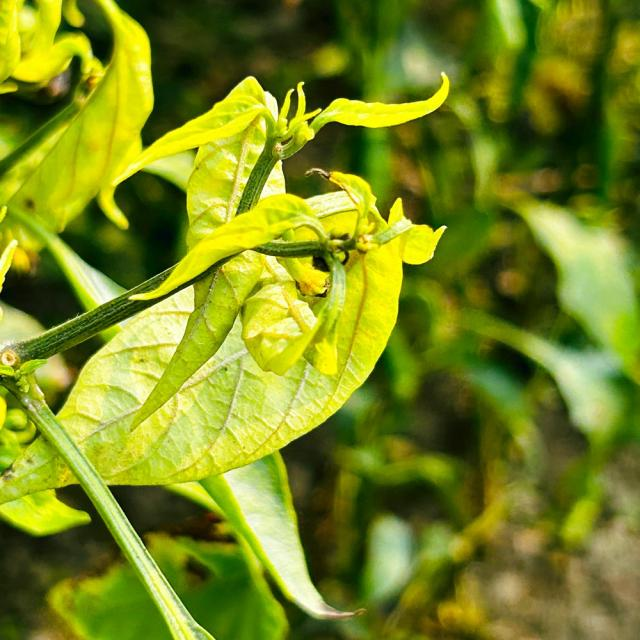Chilli_Leaf_Curl: (1, 2, 450, 635), (0, 0, 154, 275)
